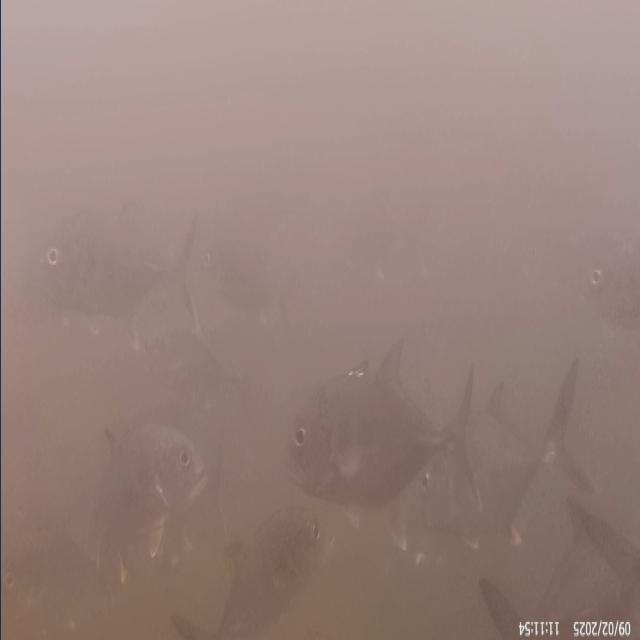ikan: (283, 332, 482, 516), (481, 354, 595, 546), (90, 416, 209, 588), (216, 502, 336, 636)
